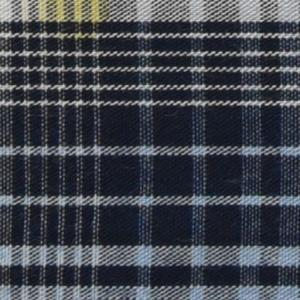Stain: (34, 1, 114, 46)
